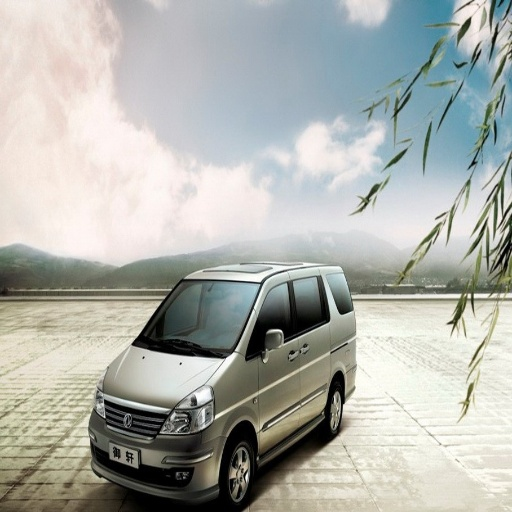front_bumper: (91, 394, 224, 499)
front_glass: (133, 280, 260, 356)
front_left_door: (250, 275, 302, 447)
